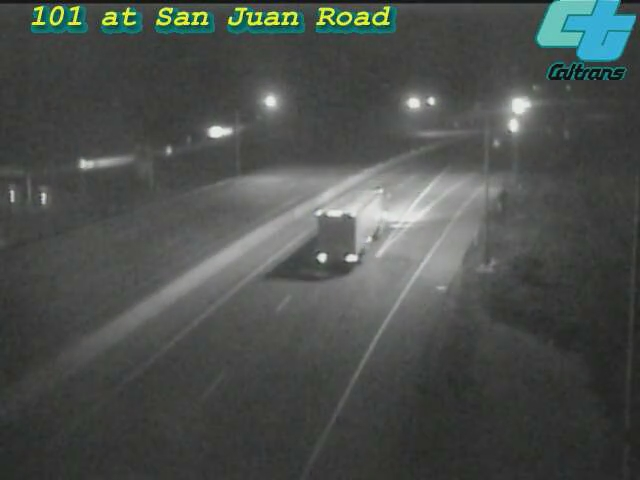vehicle: (318, 188, 398, 268), (491, 101, 541, 151), (491, 82, 541, 132)
